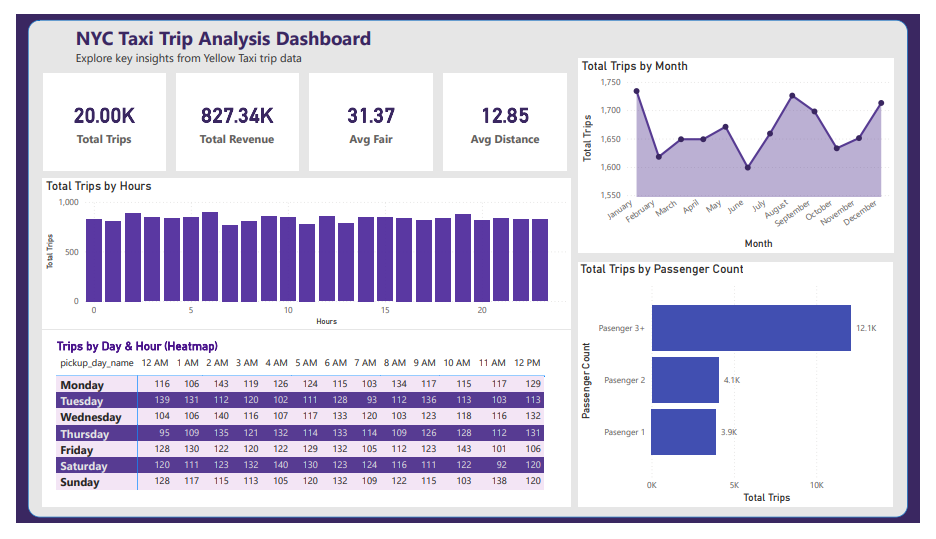

What the dashboard file says about the page in this screenshot:
{"tool":"powerbi","page":{"name":"Page 1","canvas":[1280,720],"ordinal":0},"visuals":[{"type":"shape","box":[16.7,6.7,1247.8,705],"z":0},{"type":"card","fields":{"Values":["Avg(taxi_project clean_taxi_final.trip_distance)"]},"box":[606.2,81.7,175,138.3],"z":1000},{"type":"card","fields":{"Values":["Avg(taxi_project clean_taxi_final.fare_amount)"]},"box":[415.8,81.7,175,138.3],"z":2000},{"type":"card","fields":{"Values":["Sum(taxi_project clean_taxi_final.total_amount)"]},"box":[227.1,81.7,173.3,138.3],"z":3000},{"type":"card","fields":{"Values":["CountNonNull(taxi_project clean_taxi_final.tpep_pickup_datetime)"]},"box":[38.3,81.7,173.3,138.3],"z":4000},{"type":"textbox","box":[80,8.3,500,90],"z":5000},{"type":"lineChart","fields":{"Category":["taxi_project clean_taxi_final.tpep_pickup_datetime.Variation.Date Hierarchy.Month"],"Y":["CountNonNull(taxi_project clean_taxi_final.tpep_pickup_datetime)"]},"box":[797.2,62.2,446.7,275],"z":6000},{"type":"pivotTable","title":"Trips by Day & Hour (Heatmap)","fields":{"Rows":["taxi_project clean_taxi_final.pickup_day_name"],"Values":["CountNonNull(taxi_project clean_taxi_final.tpep_pickup_datetime)"],"Columns":["taxi_project clean_taxi_final.Hour_Label"]},"box":[37.9,446.7,749.5,249.8],"z":7000},{"type":"barChart","fields":{"Y":["CountNonNull(taxi_project clean_taxi_final.tpep_pickup_datetime)"],"Category":["taxi_project clean_taxi_final.passenger_count (groups)"]},"box":[796.7,350,446.7,346.7],"z":8000},{"type":"columnChart","fields":{"Y":["CountNonNull(taxi_project clean_taxi_final.tpep_pickup_datetime)"],"Category":["taxi_project clean_taxi_final.pickup_hour"]},"box":[38.3,231.7,748.3,213.3],"z":9000}]}

Visuals, with their boxes in screenshot pixels (x1, y1, x2, y2), scaled from the page's 1280x720 canvas onto the 936x539 screenshot:
shape: bbox(12, 5, 925, 533)
card - Avg(taxi_project clean_taxi_final.trip_distance): bbox(443, 61, 571, 165)
card - Avg(taxi_project clean_taxi_final.fare_amount): bbox(304, 61, 432, 165)
card - Sum(taxi_project clean_taxi_final.total_amount): bbox(166, 61, 293, 165)
card - CountNonNull(taxi_project clean_taxi_final.tpep_pickup_datetime): bbox(28, 61, 155, 165)
textbox: bbox(58, 6, 424, 74)
lineChart - taxi_project clean_taxi_final.tpep_pickup_datetime.Variation.Date Hierarchy.Month x CountNonNull(taxi_project clean_taxi_final.tpep_pickup_datetime): bbox(583, 47, 910, 252)
"Trips by Day & Hour (Heatmap)" pivotTable: bbox(28, 334, 576, 521)
barChart - CountNonNull(taxi_project clean_taxi_final.tpep_pickup_datetime) x taxi_project clean_taxi_final.passenger_count (groups): bbox(583, 262, 909, 522)
columnChart - CountNonNull(taxi_project clean_taxi_final.tpep_pickup_datetime) x taxi_project clean_taxi_final.pickup_hour: bbox(28, 173, 575, 333)
